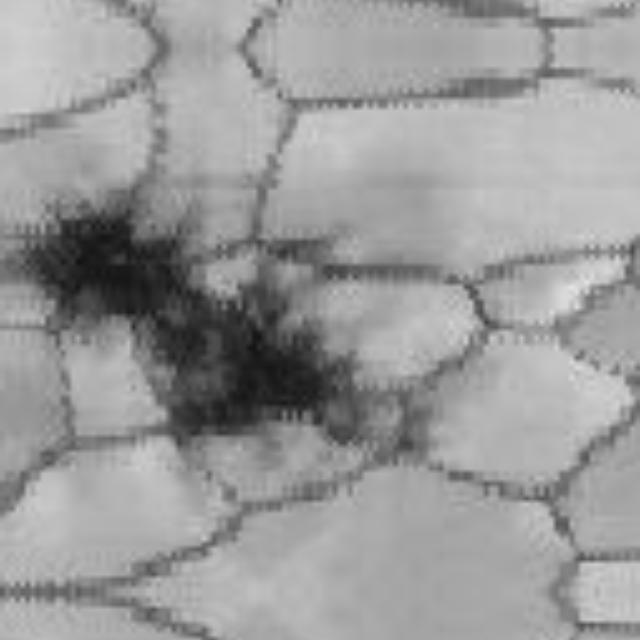good_void: (15, 191, 418, 470)
